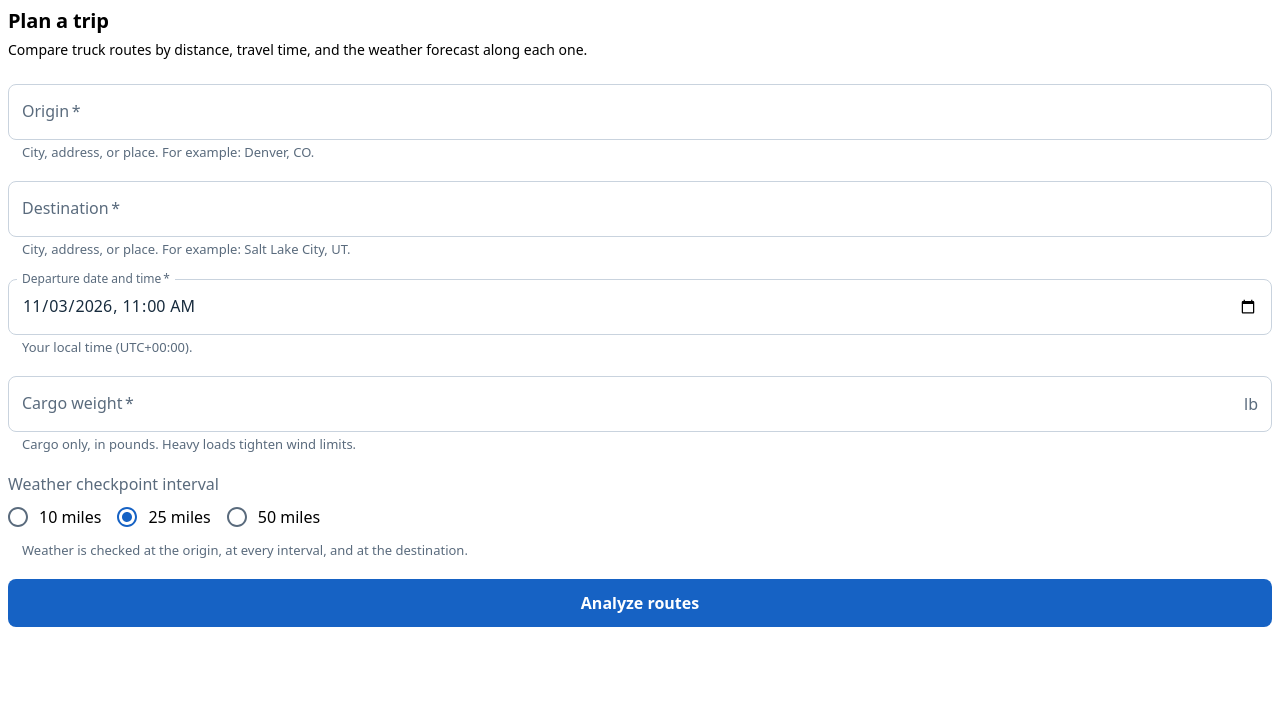
Test case: submitting › shows every validation error inline and focuses the first invalid field
Replace the text in the field labelled "Departure date and time *" with "2026-11-03T09:00" at [640, 307], box left=8, top=279, right=1272, bottom=335
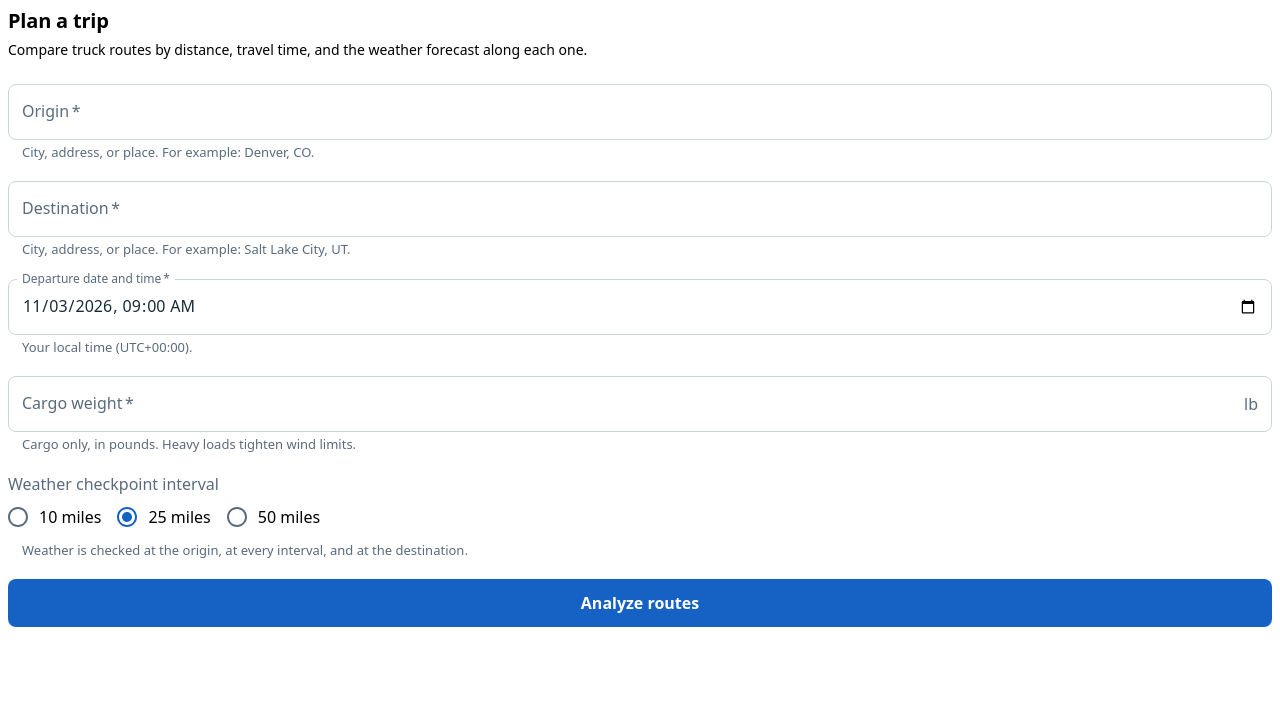
Click the button "Analyze routes".
click(640, 603)  # box left=8, top=579, right=1272, bottom=627
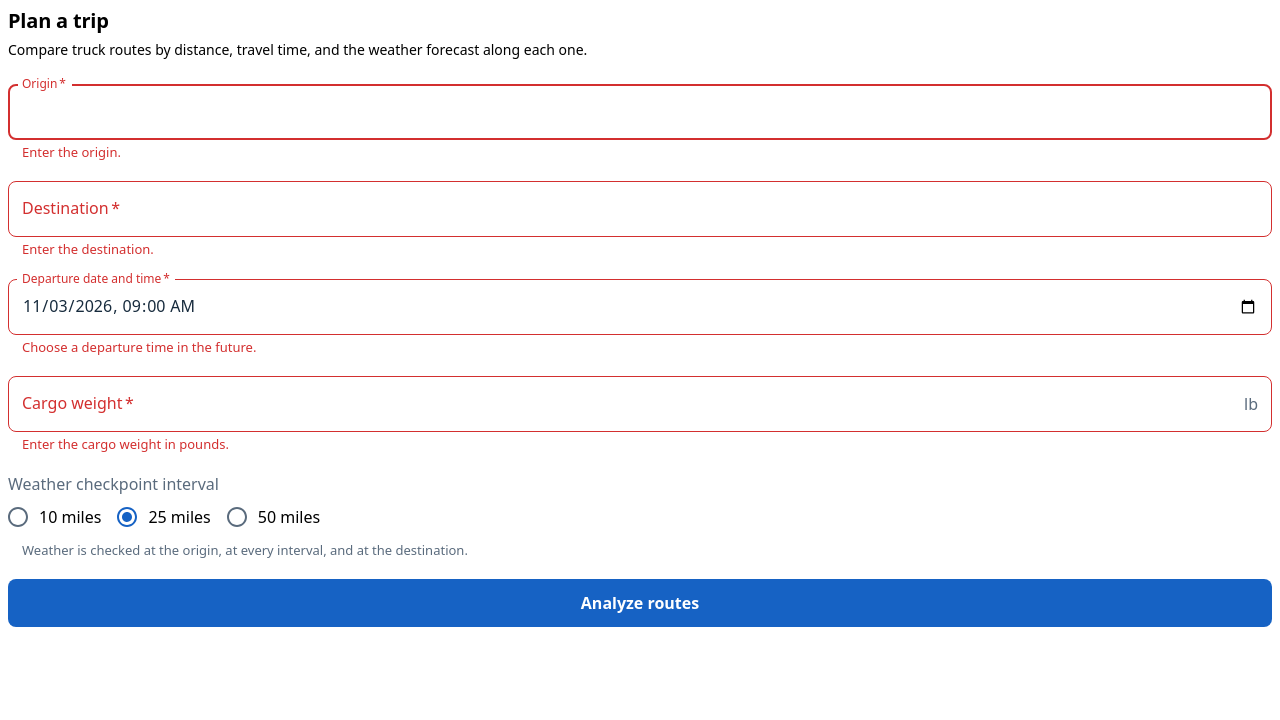
Expected: the text "Enter the origin." is shown, left=22, top=143, right=121, bottom=161
Expected: the text "Enter the destination." is shown, left=22, top=240, right=154, bottom=258
Expected: the text "Choose a departure time in the future." is shown, left=22, top=338, right=256, bottom=356
